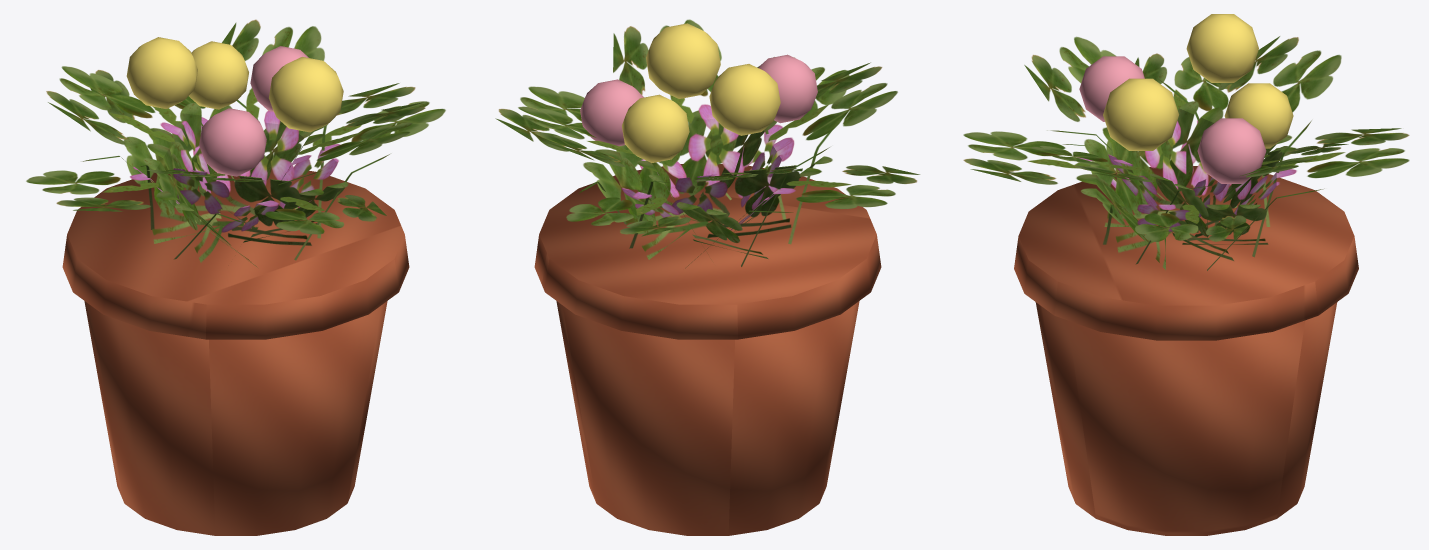
The model's file is maceta_flor.glb.
3 renders of one model, left to right at view 1: azimuth 30°, elevation 25°; view 2: azimuth 150°, elevation 25°; view 3: azimuth 270°, elevation 25°, orthographic.
Parts seen in each view (by area): view 1: maceta_flor; view 2: maceta_flor; view 3: maceta_flor.
Boxes of the visible parts, x1=… form: maceta_flor: x1=26, y1=19, x2=445, y2=535; maceta_flor: x1=495, y1=19, x2=919, y2=535; maceta_flor: x1=963, y1=14, x2=1409, y2=535.
Bounding box in the file's own units: 0.5029 × 0.54 × 0.5029.
5 materials, 3 textured.
